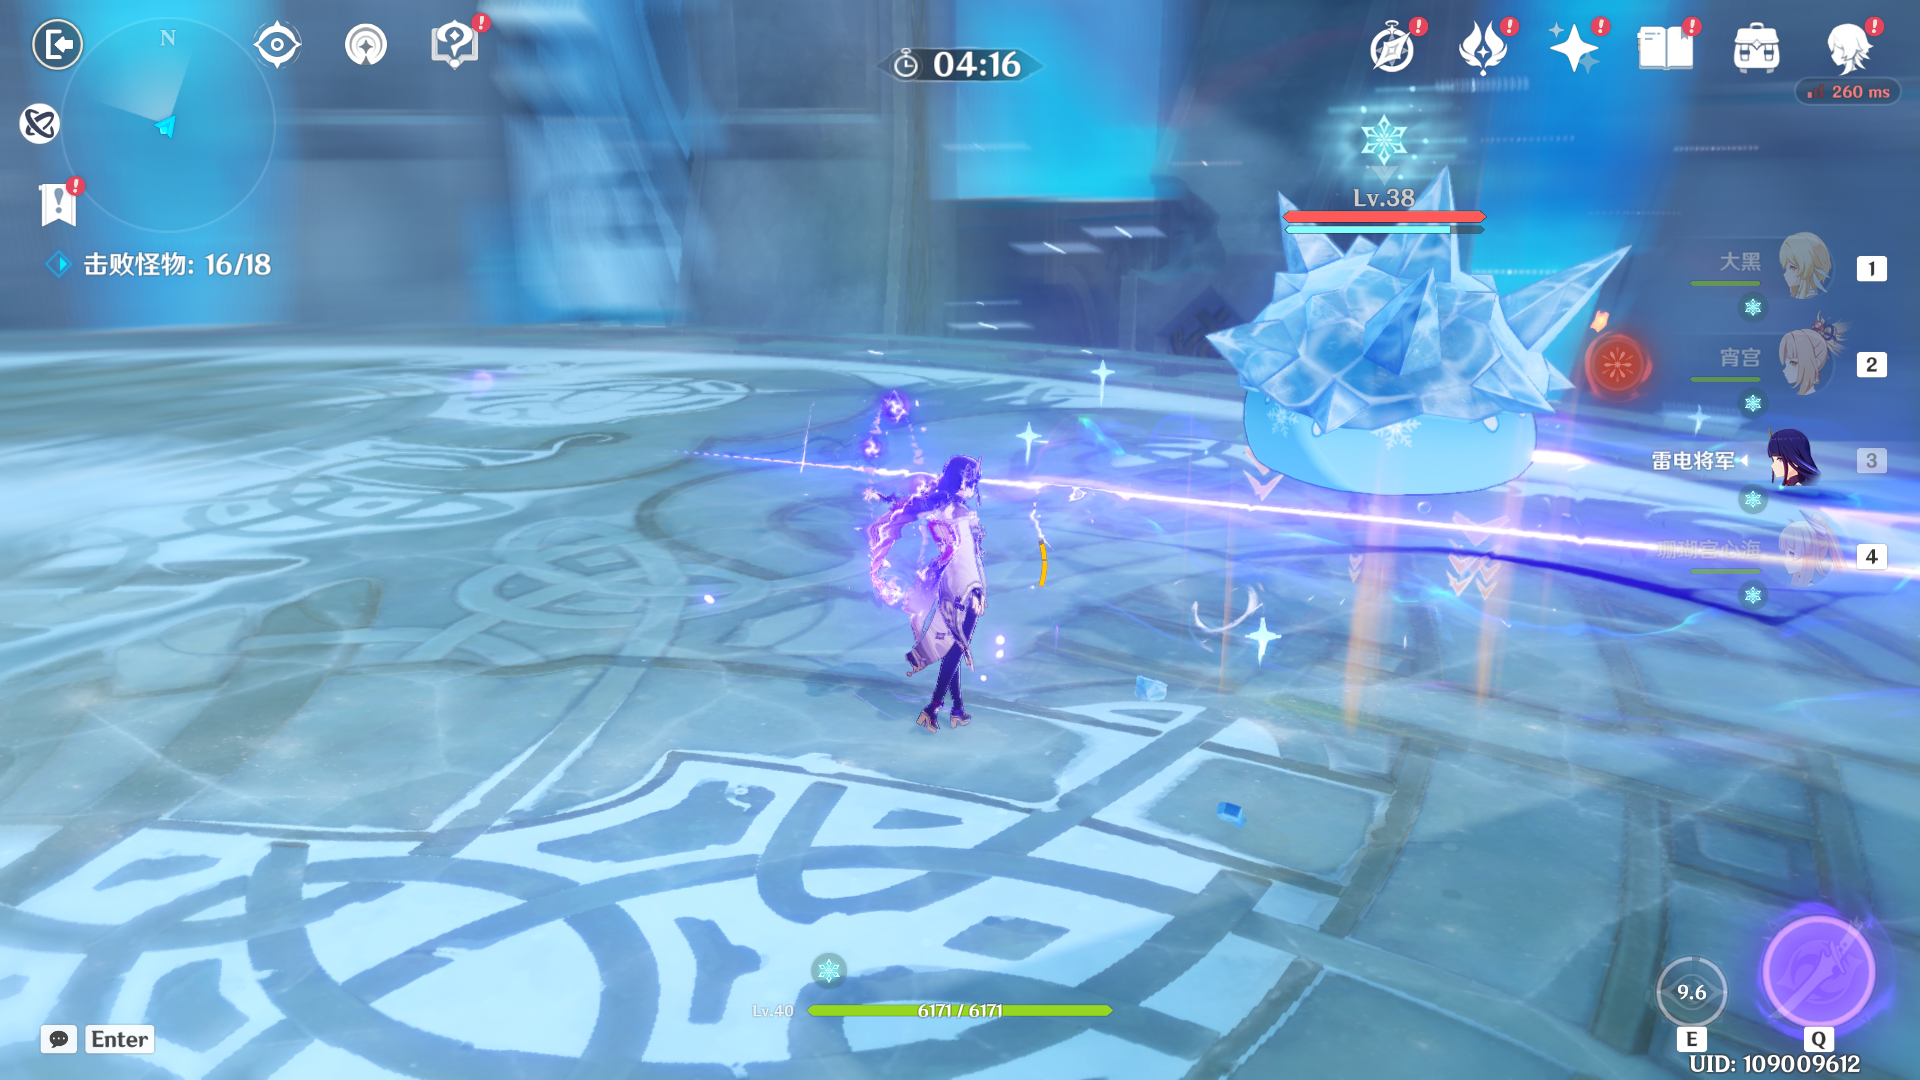character: (825, 439, 1059, 757)
slime: (1185, 202, 1590, 530)
